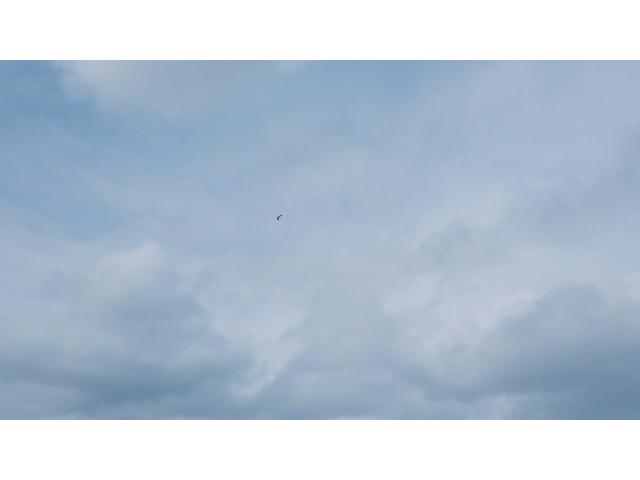Anti-Drone: (275, 212, 283, 224)
